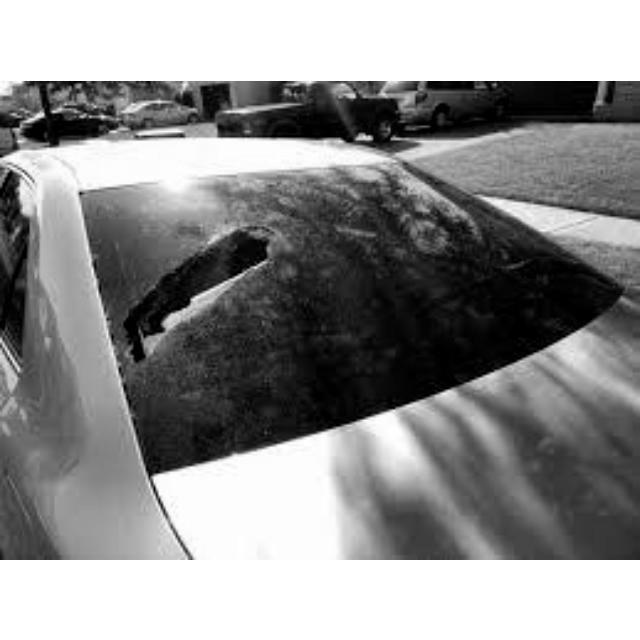Rear-windscreen-Damage: (55, 165, 630, 486)
